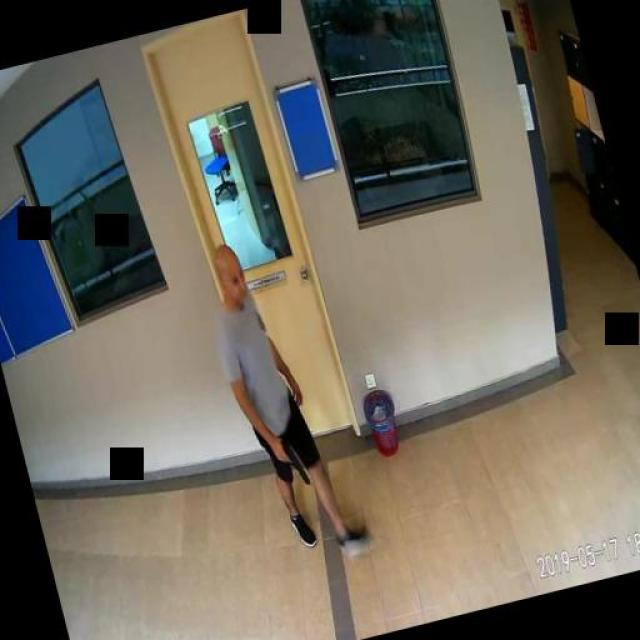gun: (270, 435, 309, 491)
